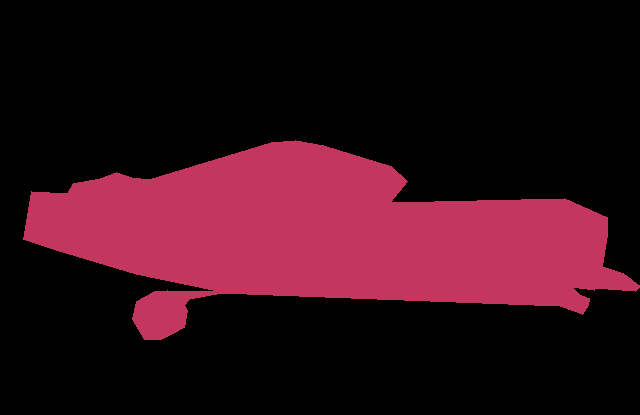Airplane: (23, 140, 640, 340)
